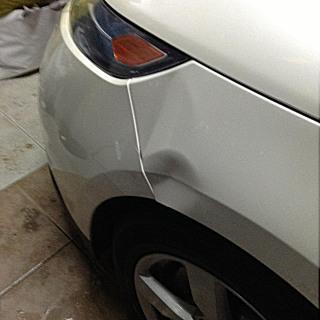dent: (126, 136, 218, 218)
